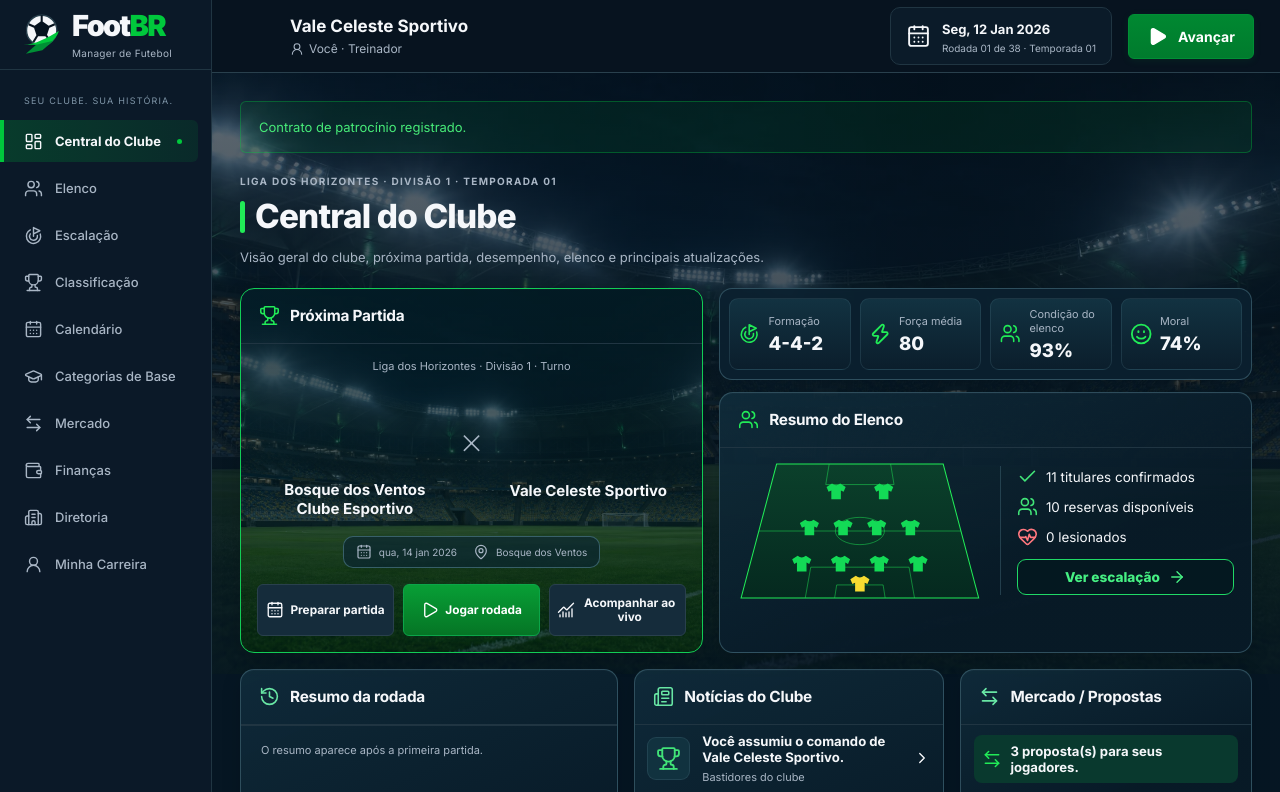
Test case: ritmo e identidade na interface › joga direto da central, pausa para ajustes e prepara o jogo seguinte pelo resultado
Step 1. Click the button "Acompanhar ao vivo" → (618, 610), box [549,584,686,636]
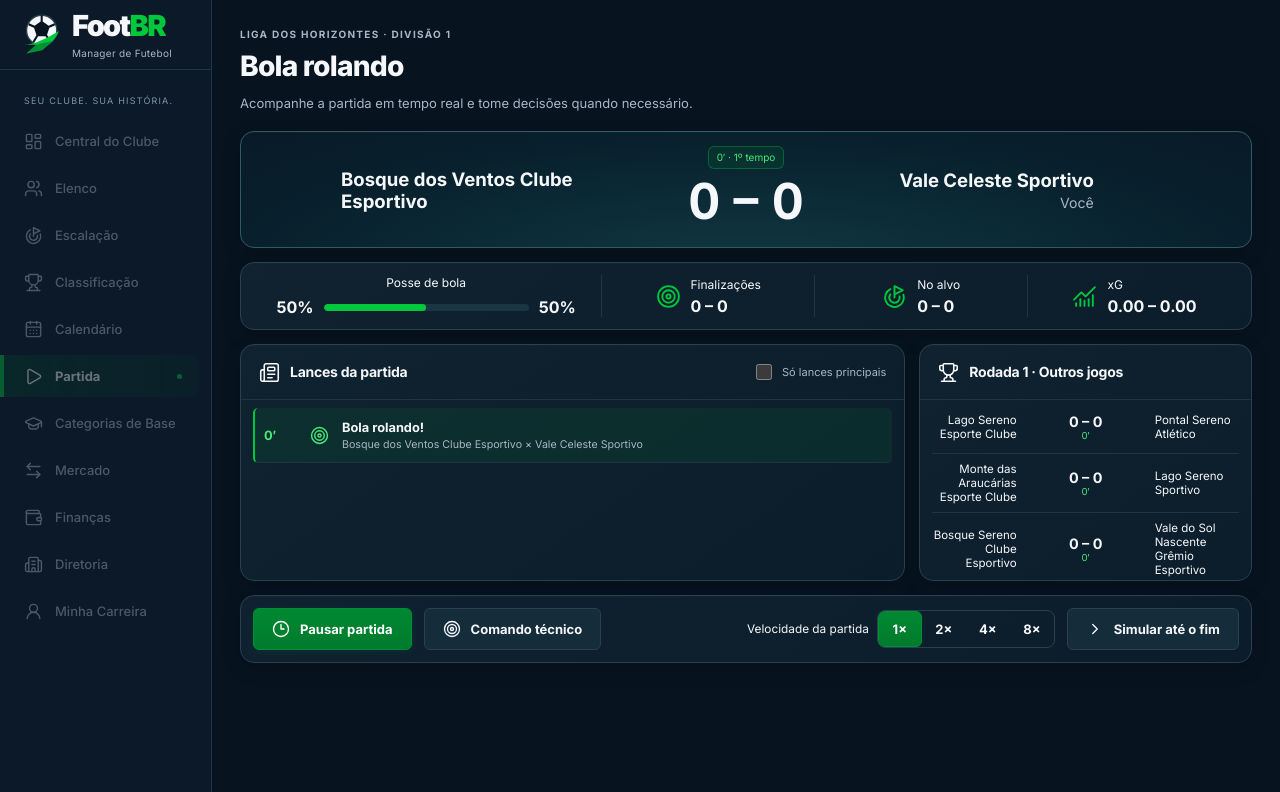
Step 2. Click the button "Pausar partida" → (332, 629), box [253,608,412,650]
(page scrolled)
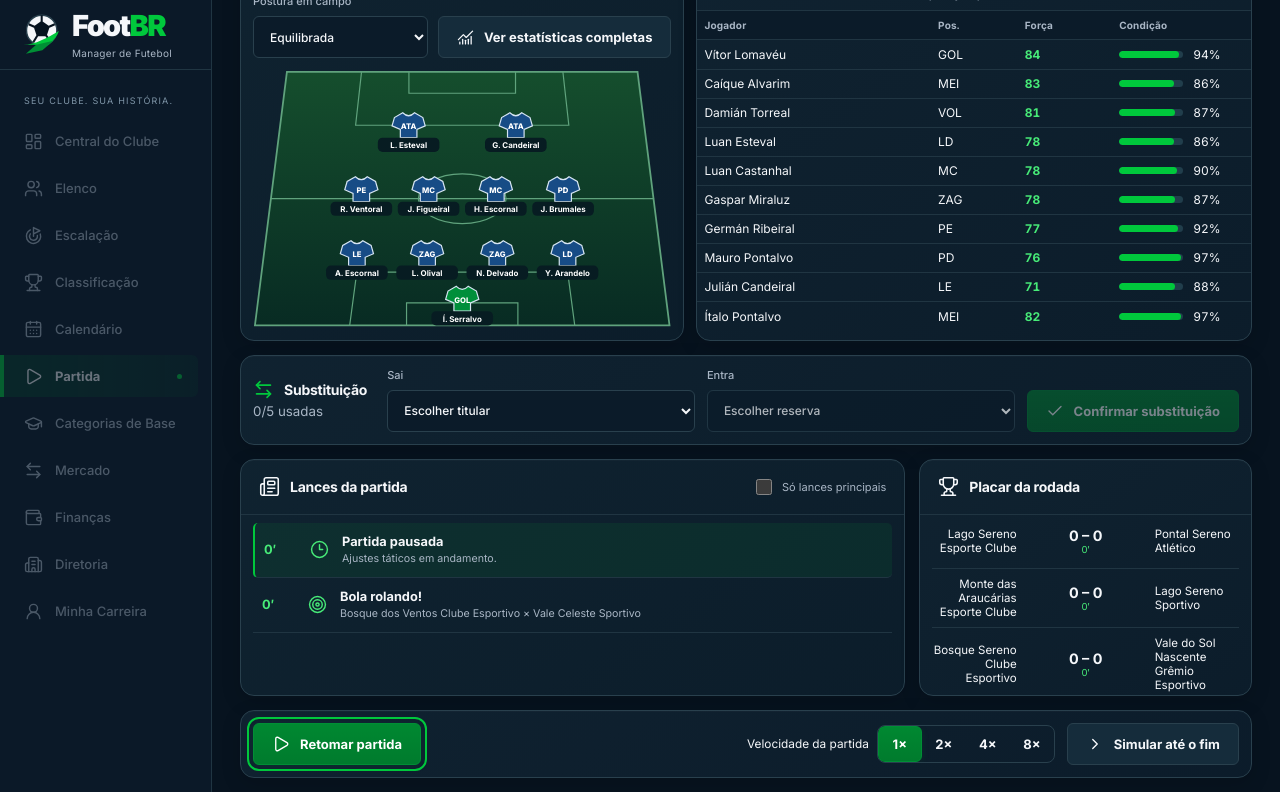
Result: the dropdown labelled "Postura em campo" is shown at [253,16,428,58]
Step 3. Click the button "Simular até o fim" → (1153, 744), box [1067,723,1239,765]
(page scrolled)
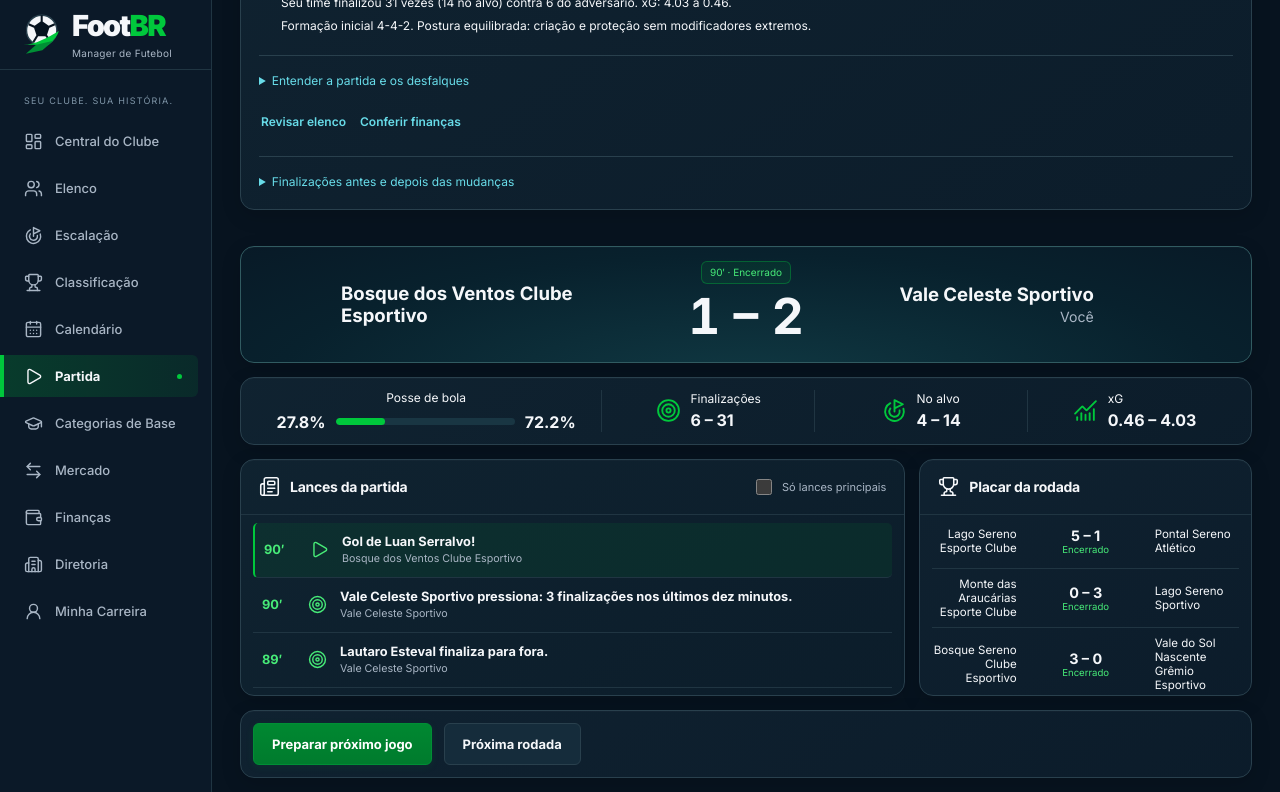
Step 4. Click the button "Preparar próximo jogo" → (342, 744), box [253,723,432,765]
(page scrolled)
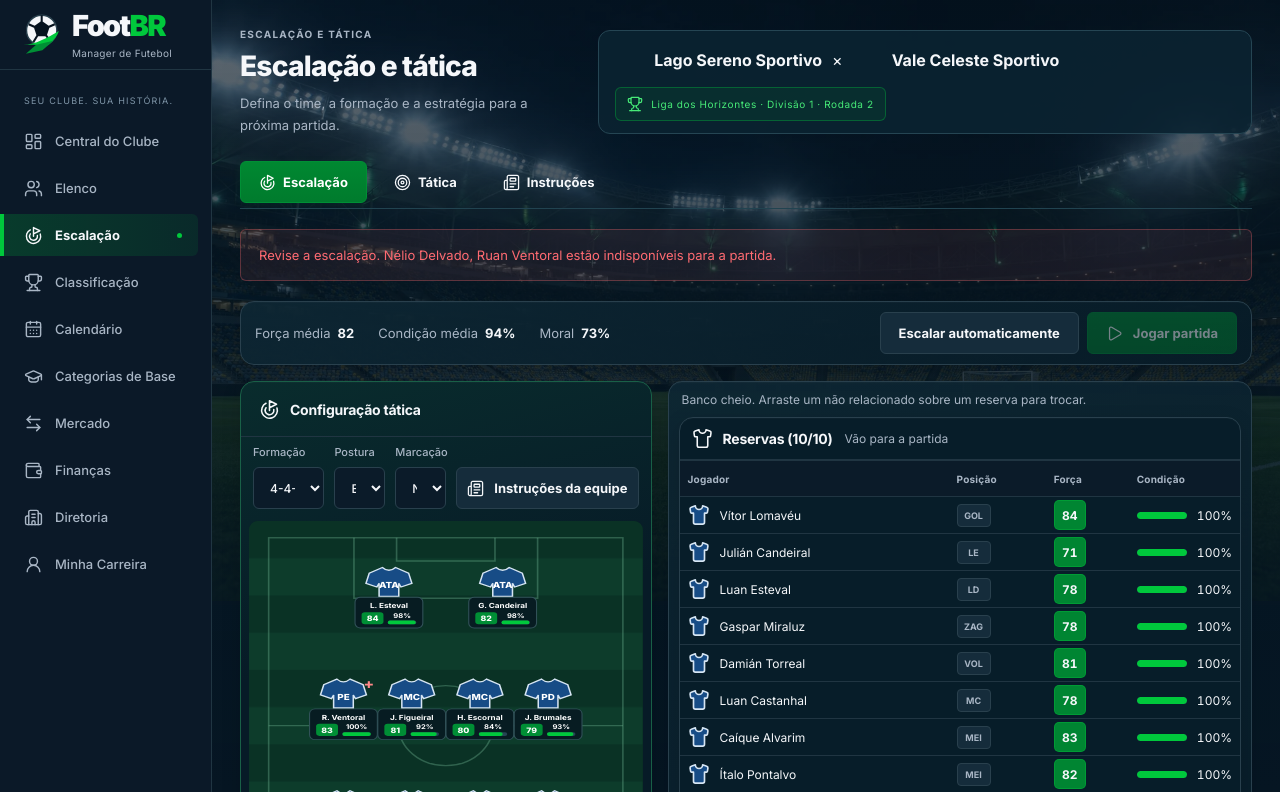
Result: the heading "Escalação e tática" is shown at [240,49,477,83]
